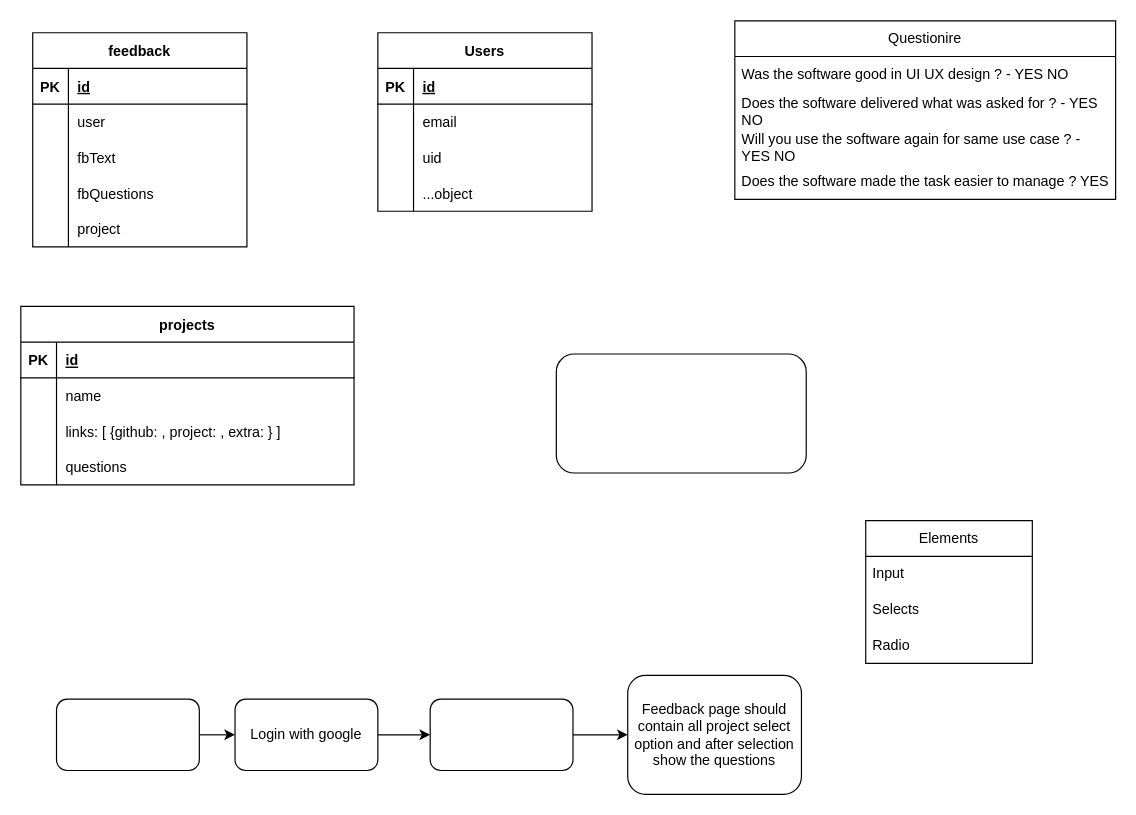
This 1136x815 diagram has some shape labels left out. The centre of each missing label's shape, as x and y in pixels:
fbQuestions: [ { question: "", answer: true | false } ]: [680,413]
Head to /feedback page: [501,734]
Show home with total feedbacks and ask to login: [127,734]
